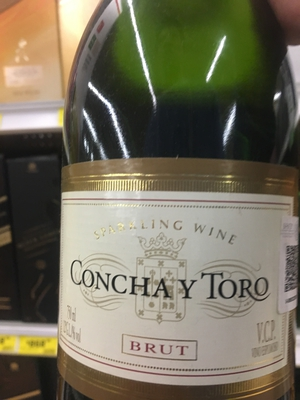brut: (44, 21, 298, 400)
